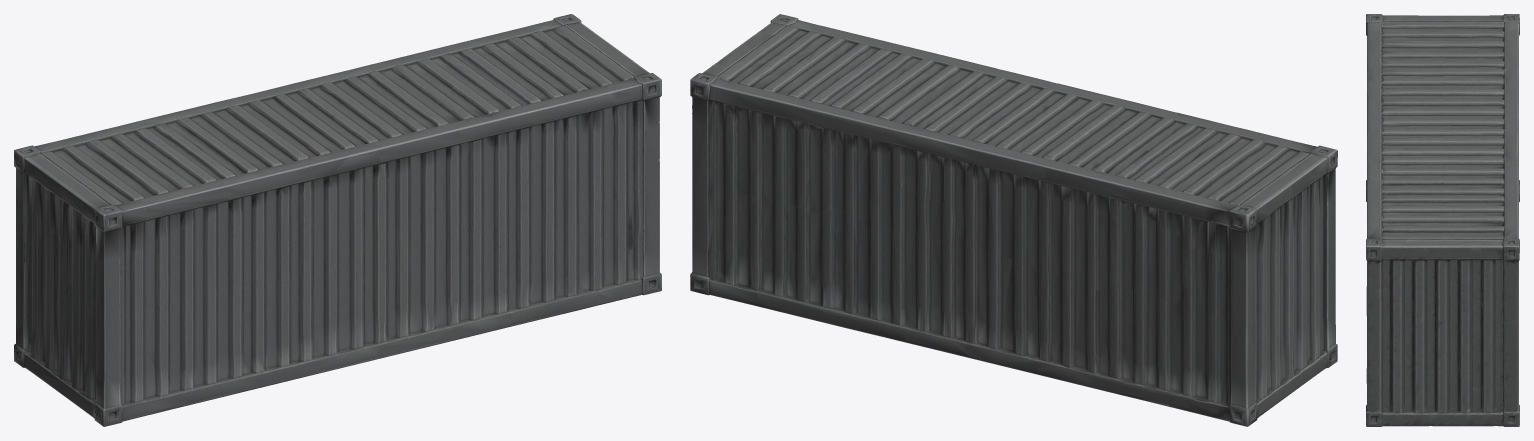
The model's file is industrial_container.glb.
3 views of the same model, side by side, from view 1: azimuth 30°, elevation 25°; view 2: azimuth 150°, elevation 25°; view 3: azimuth 270°, elevation 25° (orthographic). The views are drawn at different scales.
Visible parts, largest first — view 1: mesh_node; view 2: mesh_node; view 3: mesh_node.
Boxes of the visible parts, <box> form: mesh_node: <box>14,14,661,426</box>; mesh_node: <box>690,14,1337,426</box>; mesh_node: <box>1366,14,1519,426</box>.
Bounding box in the file's own units: 1.9 × 0.6922 × 0.532.
Materials: 1 (1 with a texture image).
